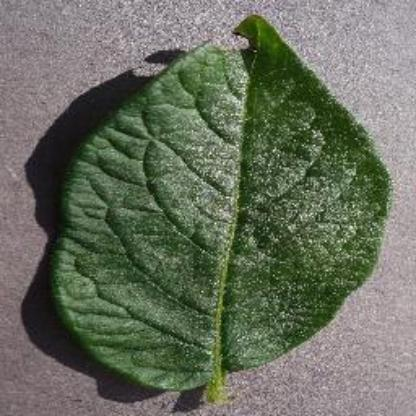Healthy-plant: (53, 15, 392, 399)
